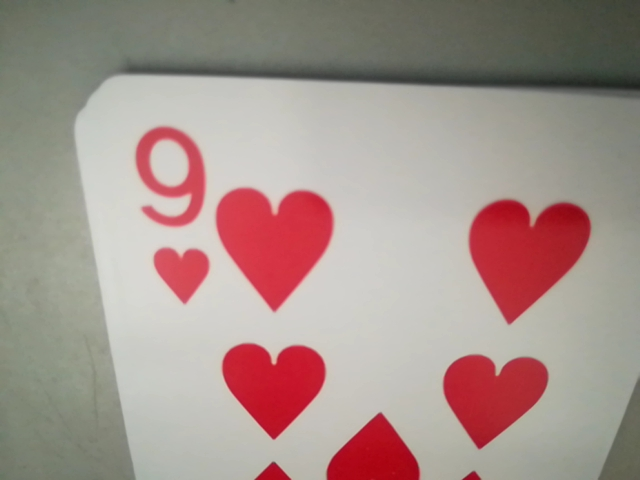hx 9: (126, 125, 211, 308)
